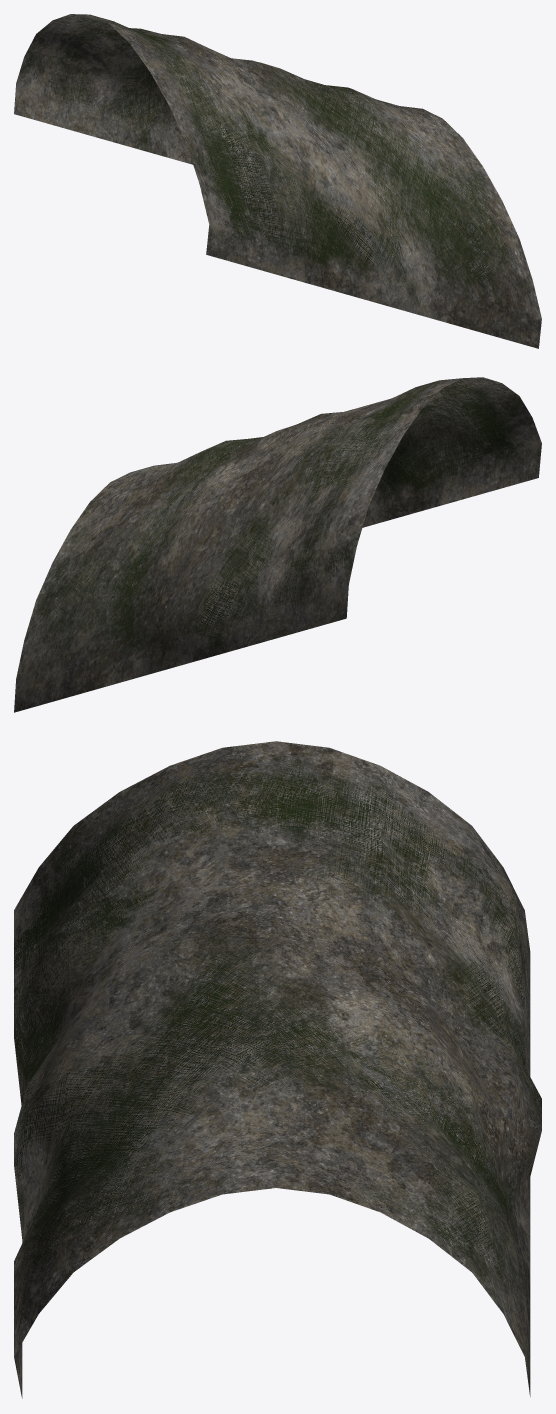
File: underground_ceiling_03.fbx
The picture shows the model from 3 angles, top to bottom: view 1: azimuth 30°, elevation 25°; view 2: azimuth 150°, elevation 25°; view 3: azimuth 270°, elevation 25°; orthographic projection. The views are drawn at different scales.
Visible parts, largest first — view 1: underground_ceiling_08; view 2: underground_ceiling_08; view 3: underground_ceiling_08.
Part boxes in pixels (box(x1,y1,x2,y2)): underground_ceiling_08: box(14, 14, 541, 348); underground_ceiling_08: box(14, 377, 541, 712); underground_ceiling_08: box(14, 741, 541, 1398).
Bounding box in the file's own units: 330 × 318 × 343.
1 material, 1 textured.
